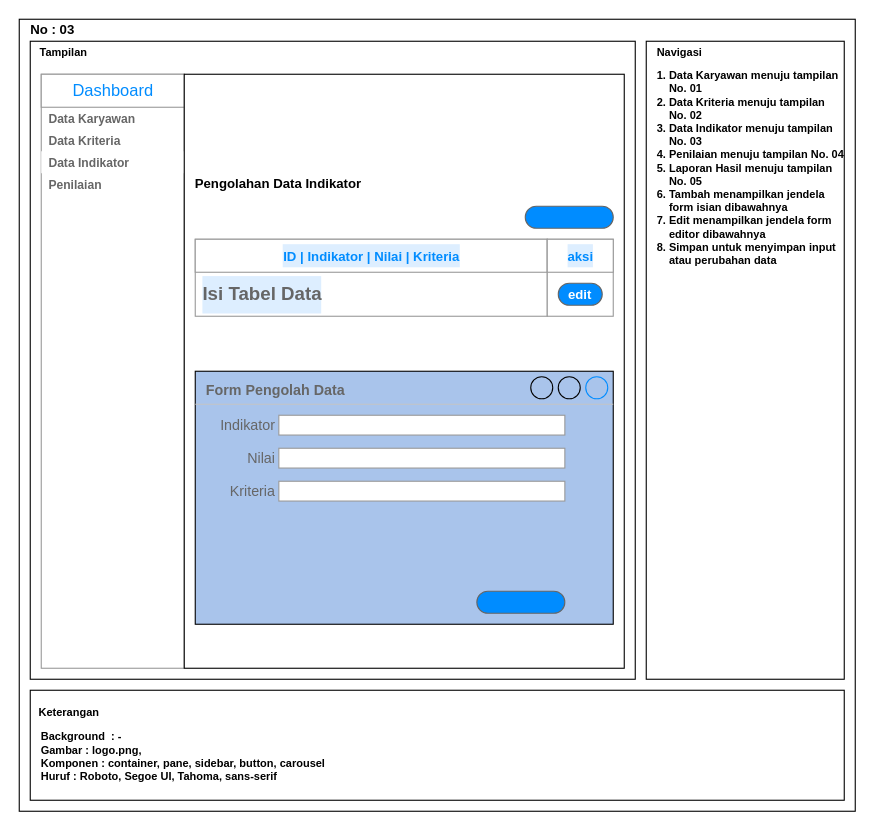
Some shapes in this 886 by 831 pixel diagram are drawn without their labels. The shapes that lost their labels are listed below. From the top down, each one's centre as x and y in pixels, then its label:
At (112,205): "Laporan Hasil".
At (568,216): "tambah".
At (520,601): "simpan".
